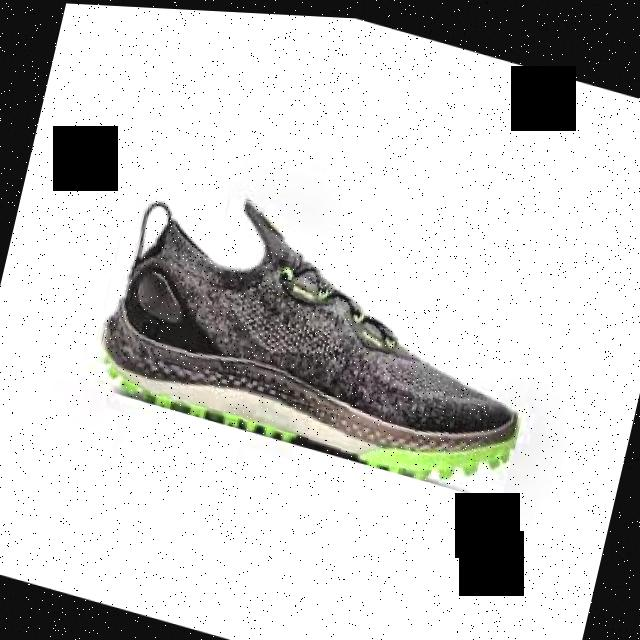shoe: (88, 163, 552, 500)
